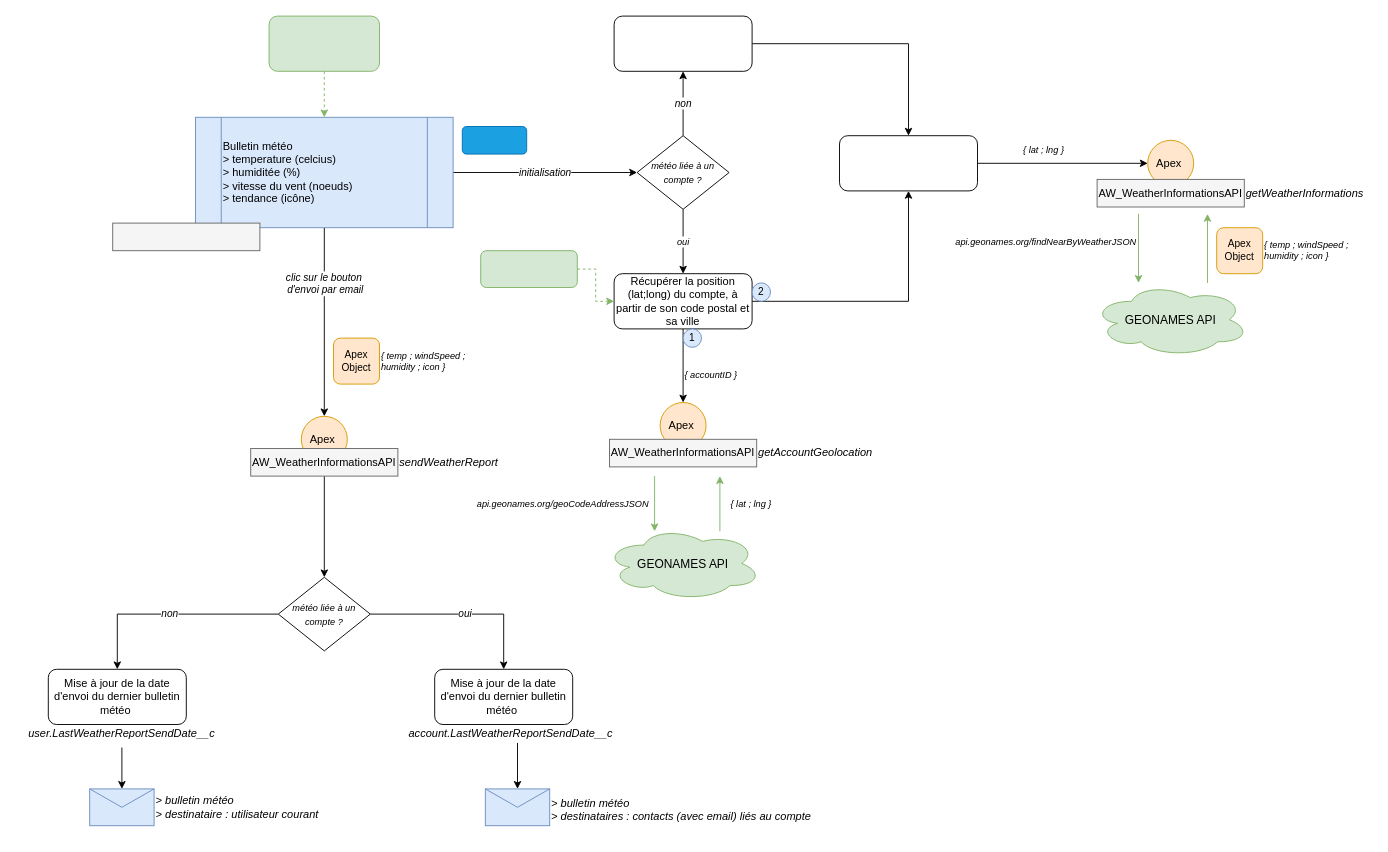
Some shapes in this 1388 by 852 pixel diagram are drawn without their labels. Each missing label, with the box of its shape:
AURA_WeatherInformations: (112, 222, 260, 251)
champs BillingCity & BillingPostalCode: (480, 250, 577, 288)
disponible pour les pages d'accueil et pour l'objet compte: (268, 15, 380, 71)
Envoi par emai: (461, 126, 527, 154)
Récupérer & afficher la météo selon la position (lat;long) déterminée: (839, 135, 978, 191)
Récupérer la position (lat;long) de l'utilisateur connecté: (613, 15, 752, 71)
